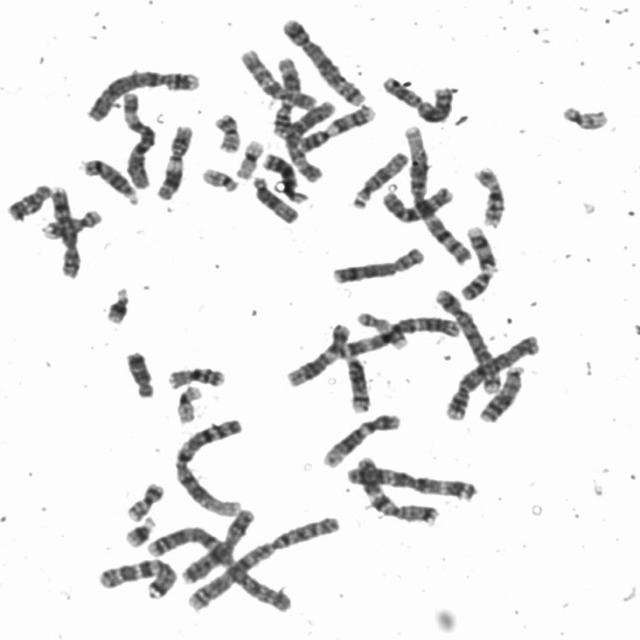A1: (397, 118, 474, 267), (167, 411, 247, 518)
A2: (180, 510, 344, 612), (142, 520, 296, 613)
A3: (330, 310, 462, 359), (343, 458, 480, 502)
B4: (439, 329, 542, 422), (80, 64, 202, 124)
B5: (275, 11, 368, 107), (428, 281, 504, 396)
C10: (234, 42, 321, 111), (376, 179, 456, 225)
C11: (149, 118, 195, 201), (266, 52, 302, 137)
C12: (317, 406, 403, 469), (281, 318, 353, 388)
C6: (277, 94, 337, 184), (116, 86, 156, 190)
C7: (352, 452, 442, 526), (91, 552, 179, 600)
C8: (327, 241, 427, 285), (45, 180, 82, 280)
C9: (291, 97, 378, 153), (456, 218, 499, 302)
D13: (472, 359, 526, 424), (257, 146, 309, 204)
D14: (76, 151, 142, 206), (340, 349, 372, 414)
D15: (345, 145, 411, 210), (246, 169, 302, 225)
E16: (468, 160, 508, 228), (161, 360, 227, 390)
E17: (351, 306, 411, 351), (37, 202, 105, 240)
E18: (2, 177, 54, 222), (119, 345, 157, 399)
F19: (230, 134, 266, 180), (170, 378, 204, 424)
F20: (121, 476, 167, 522), (208, 107, 243, 154)
G21: (99, 280, 132, 326), (119, 511, 158, 549)
G22: (556, 98, 611, 132), (195, 162, 240, 193)
X: (176, 503, 257, 586), (376, 70, 455, 124)
